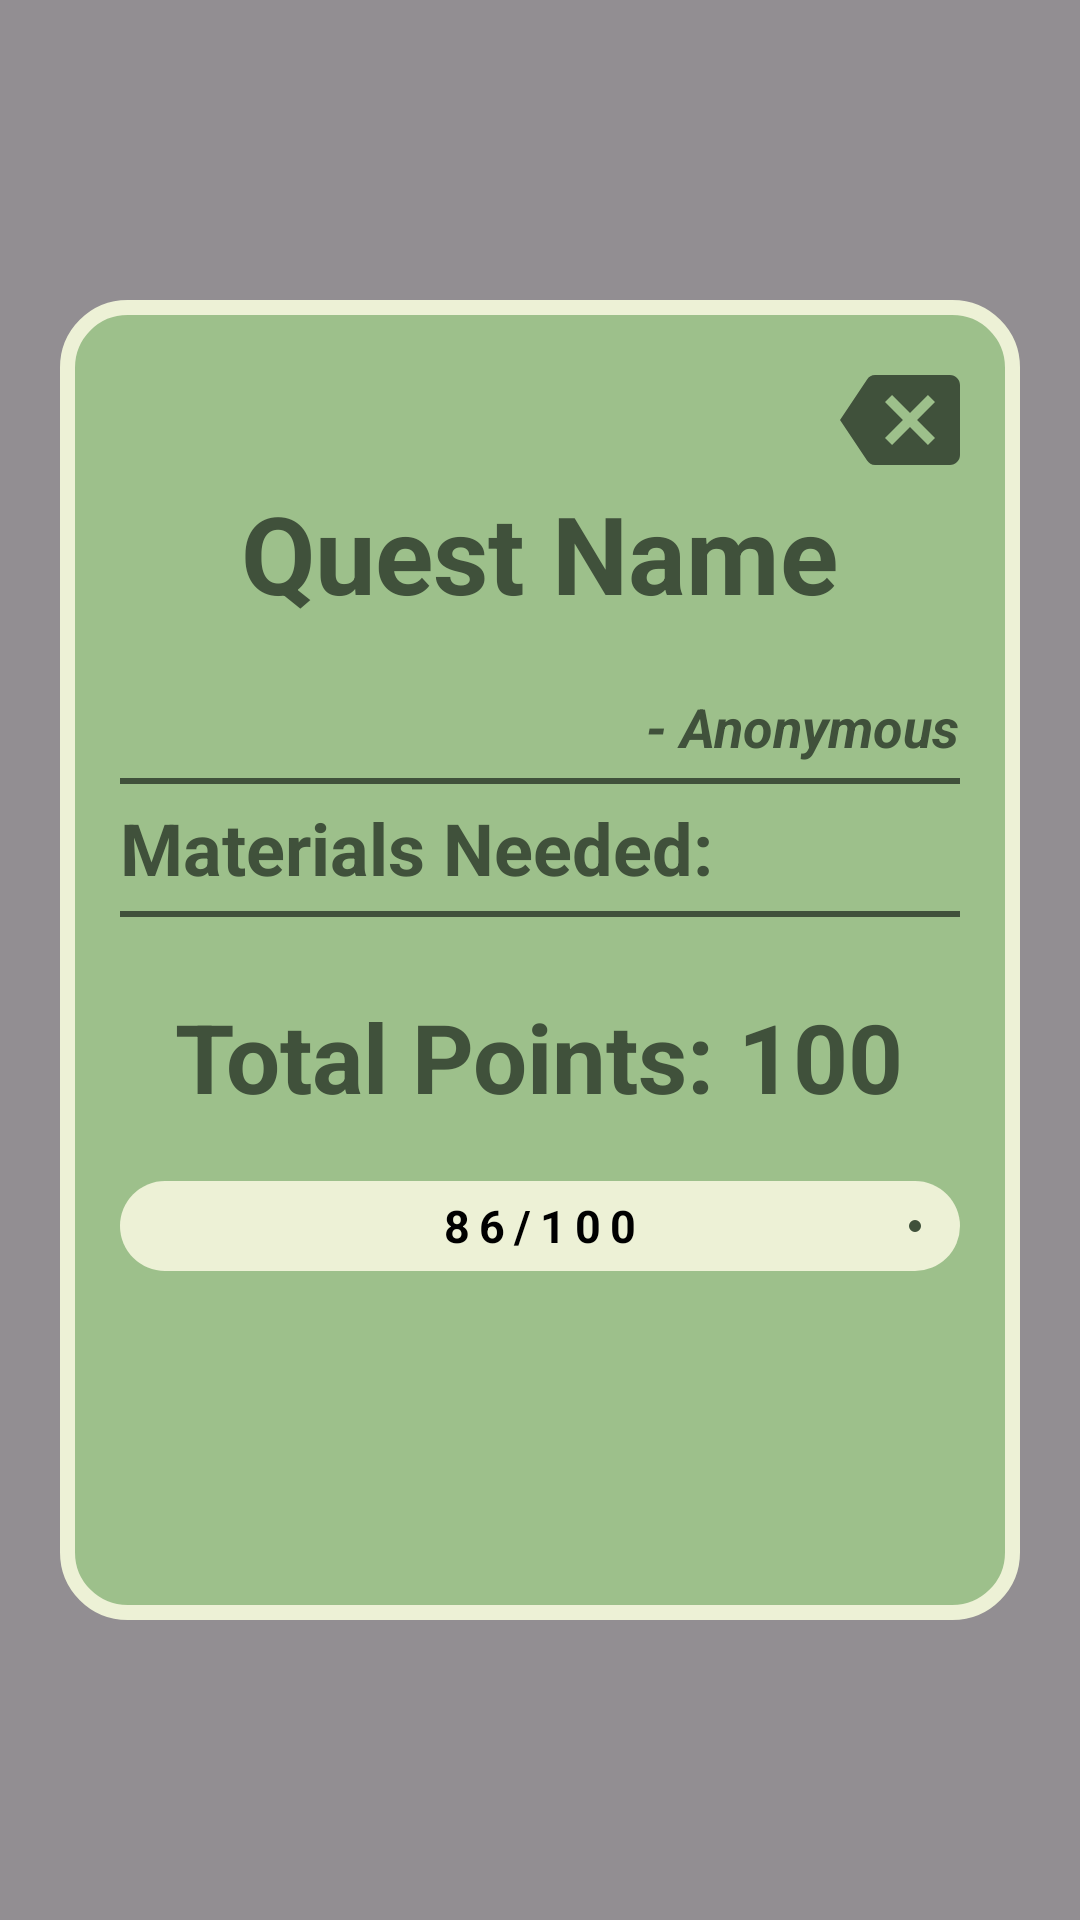

Screen size 1080x1920. Icon name, then its center in pixels as (x=x, y=y):
backicon: (x=900, y=420)
